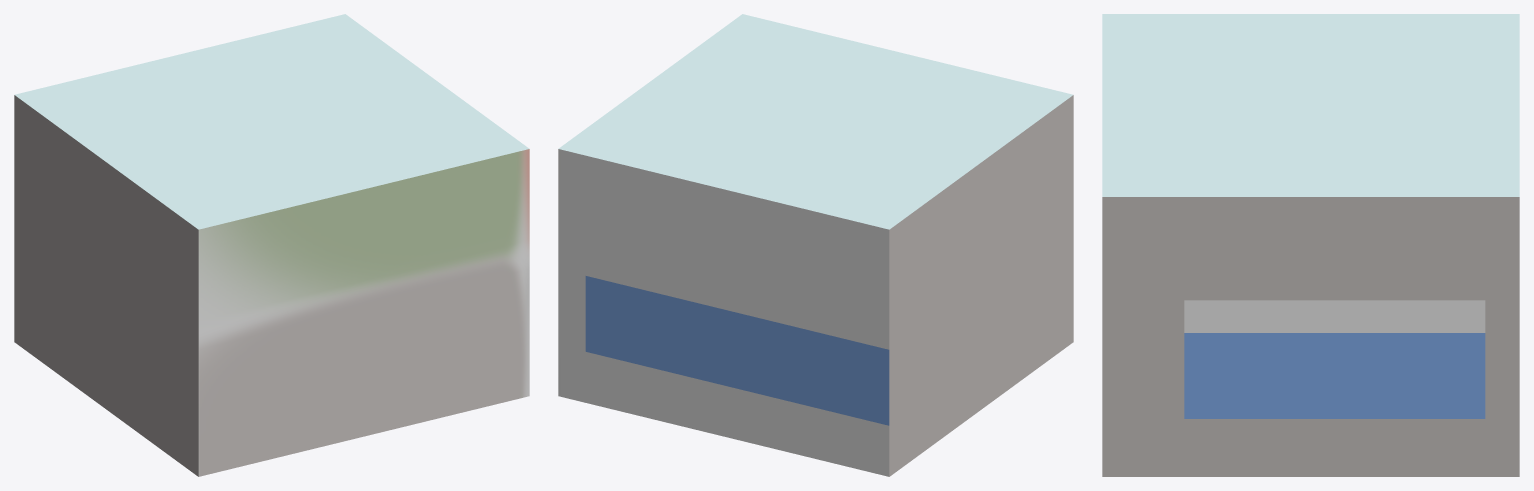
File: tosyo.glb
3 views of the same model, side by side, from view 1: azimuth 30°, elevation 25°; view 2: azimuth 150°, elevation 25°; view 3: azimuth 270°, elevation 25° (orthographic). The views are drawn at different scales.
Visible parts, largest first — view 1: 図書室; view 2: 図書室; view 3: 図書室.
Part boxes in pixels (box(x1,y1,x2,y2)): 図書室: box(14, 14, 529, 476); 図書室: box(558, 14, 1073, 476); 図書室: box(1102, 14, 1519, 476).
Bounding box in the file's own units: 2.23 × 1.59 × 2.15.
Materials: 1 (1 with a texture image).
